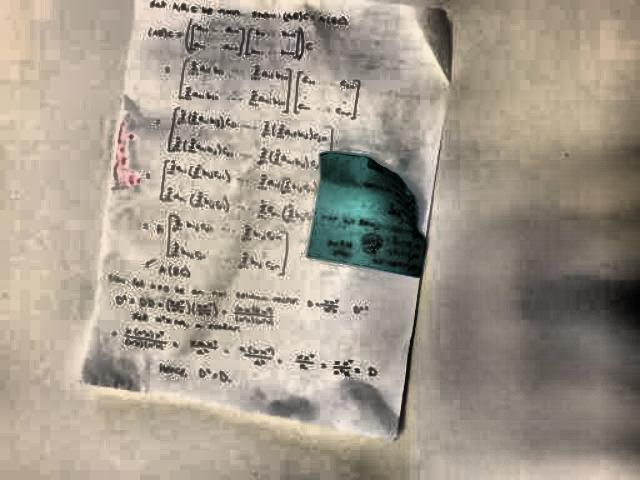Paper: (75, 0, 450, 448)
